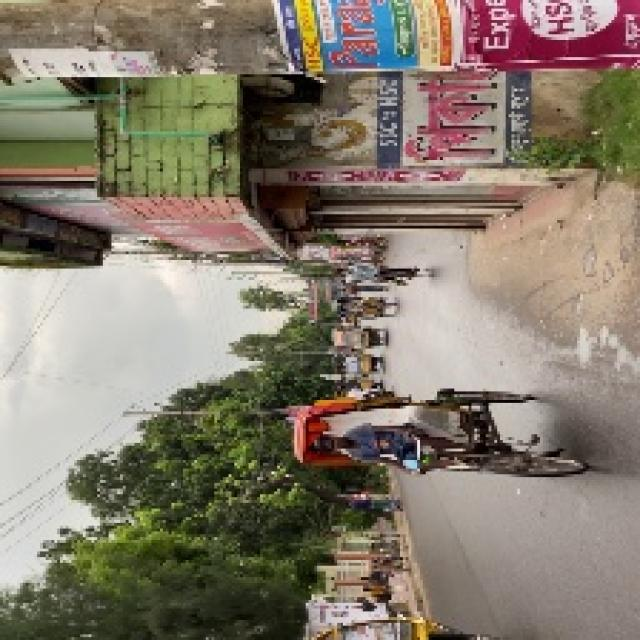rickshaw: (289, 379, 579, 492), (332, 295, 400, 320), (331, 325, 391, 350), (330, 353, 388, 375)
